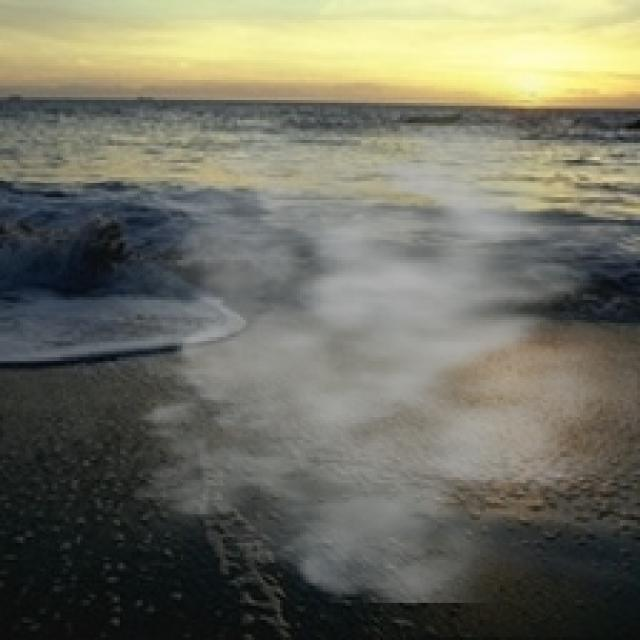smoke: (77, 74, 637, 606)
